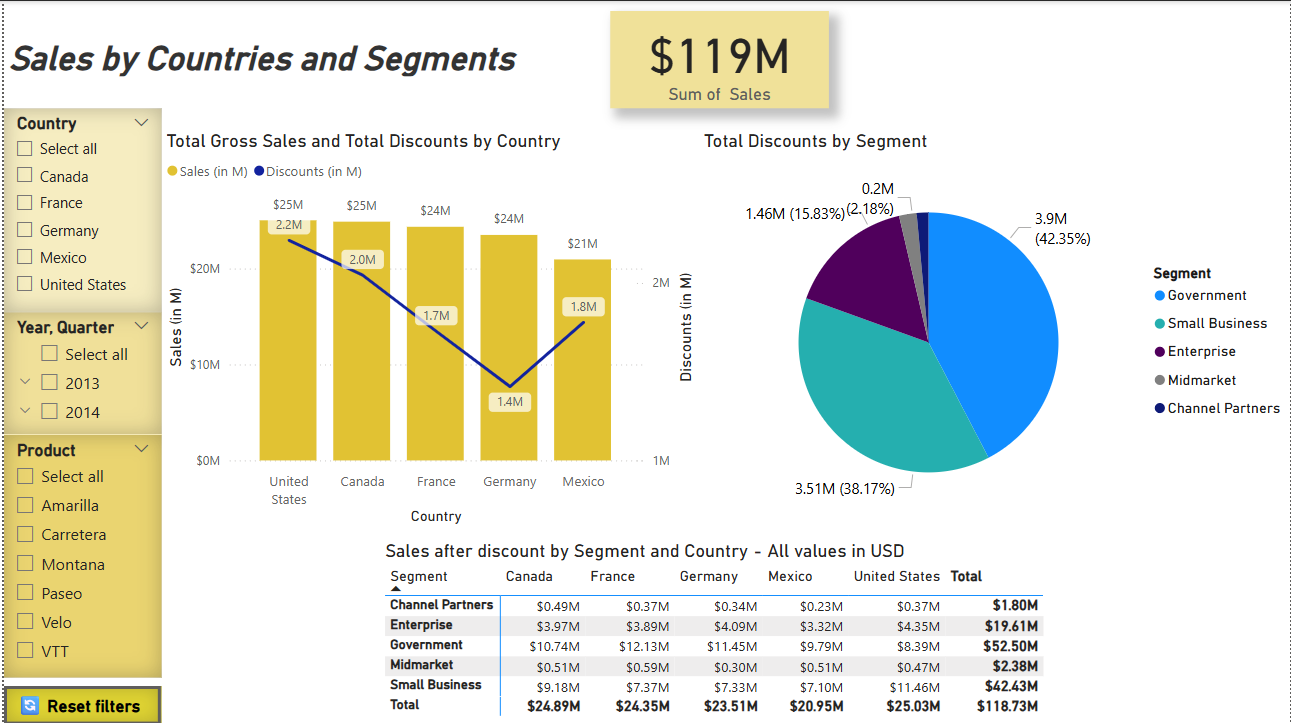

The dashboard page shown, as its layout file describes it:
{"tool":"powerbi","page":{"name":"Sales","canvas":[1280,720],"ordinal":0},"visuals":[{"type":"card","fields":{"Values":["Sum(financials (2). Sales)"]},"box":[603.3,10,217.7,97],"z":0},{"type":"lineStackedColumnComboChart","fields":{"Category":["financials (2).Country"],"Y2":["Sum(financials (2).Discounts)"],"Y":["Sum(financials (2). Sales)"]},"box":[156.7,128.1,534.9,398.1],"z":1000},{"type":"pivotTable","title":"Sales after discount by Segment and Country - All values in USD","fields":{"Columns":["financials (2).Country"],"Rows":["financials (2).Segment"],"Values":["Sum(financials (2). Sales)"]},"box":[374.4,536.1,675.5,184.1],"z":2000},{"type":"pieChart","title":"Total Discounts by Segment","fields":{"Category":["financials (2).Segment"],"Y":["Sum(financials (2).Discounts)"]},"box":[691.6,128.1,588.4,398.1],"z":3000},{"type":"slicer","fields":{"Values":["financials (2).Country"]},"box":[0,107,156.7,202.8],"z":4000},{"type":"slicer","fields":{"Values":["financials (2).Product"]},"box":[0,431.7,156.7,241.3],"z":5000},{"type":"slicer","fields":{"Values":["financials (2).Date.Variation.Date Hierarchy.Year","financials (2).Date.Variation.Date Hierarchy.Quarter"]},"box":[0,309.7,156.7,121.9],"z":6000},{"type":"actionButton","box":[0,681.7,156.7,38.6],"z":7000},{"type":"textbox","title":"Sales by Countries and Segments","box":[0,37.3,518.7,43.5],"z":8000}]}

Visuals, with their boxes in screenshot pixels (x1, y1, x2, y2), scaled from the page's 1280x720 canvas onto the 1291x723 screenshot:
card - Sum(financials (2). Sales): bbox=(608, 10, 828, 107)
lineStackedColumnComboChart - financials (2).Country x Sum(financials (2).Discounts): bbox=(158, 129, 698, 528)
"Sales after discount by Segment and Country - All values in USD" pivotTable: bbox=(378, 538, 1059, 722)
"Total Discounts by Segment" pieChart: bbox=(698, 129, 1290, 528)
slicer - financials (2).Country: bbox=(0, 107, 158, 311)
slicer - financials (2).Product: bbox=(0, 433, 158, 676)
slicer - financials (2).Date.Variation.Date Hierarchy.Year x financials (2).Date.Variation.Date Hierarchy.Quarter: bbox=(0, 311, 158, 433)
actionButton: bbox=(0, 685, 158, 722)
"Sales by Countries and Segments" textbox: bbox=(0, 37, 523, 81)
